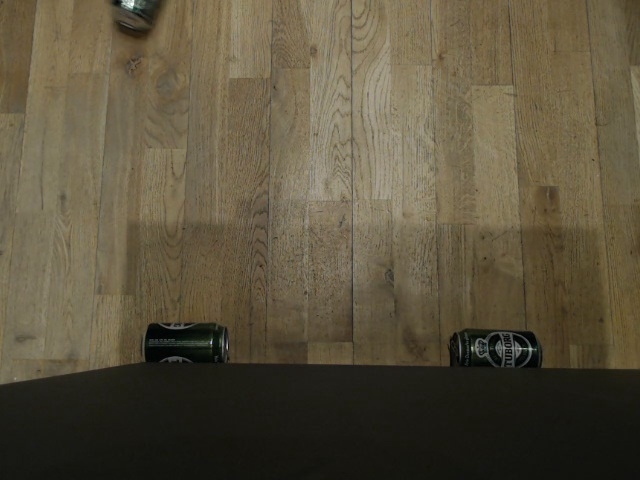beer: (447, 327, 543, 370), (137, 319, 230, 363), (109, 1, 162, 30)
